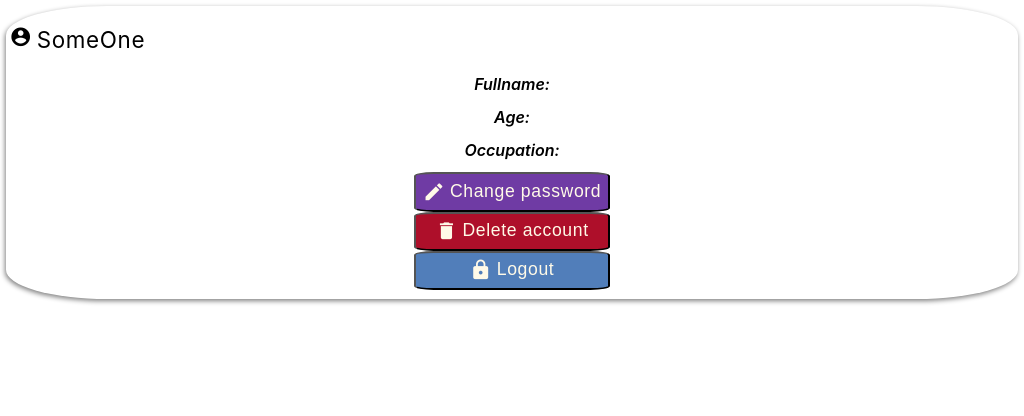
Test: Profile item component test - success screen › Login, password change, cancel it
# start to change pwd
Click the text "Change password" at coordinates (526, 192), box [450,183,601,201]
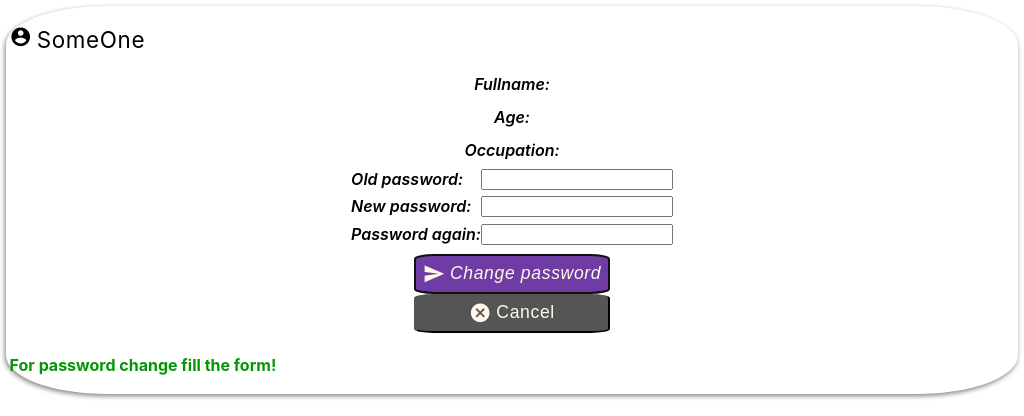
Expected: the password field labelled "Old password:" is shown, [481,169,673,190]
Expected: the password field labelled "New password:" is shown, [481,196,673,218]
Expected: the password field labelled "Password again:" is shown, [481,224,673,245]
# cancelation and revision of normal state
Click the icon "Cancel" at coordinates (526, 313), box [496,304,555,322]
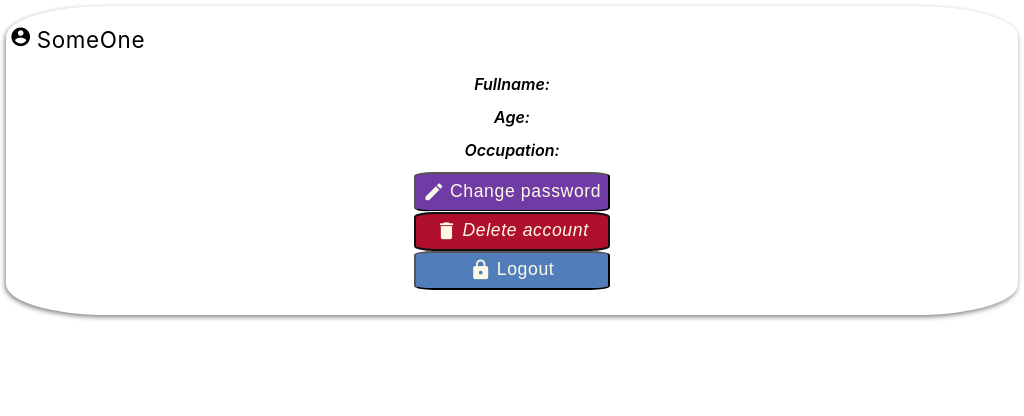
Expected: the label labelled "Old password:" is gone
Expected: the label labelled "New password:" is gone
Expected: the label labelled "Password again:" is gone
